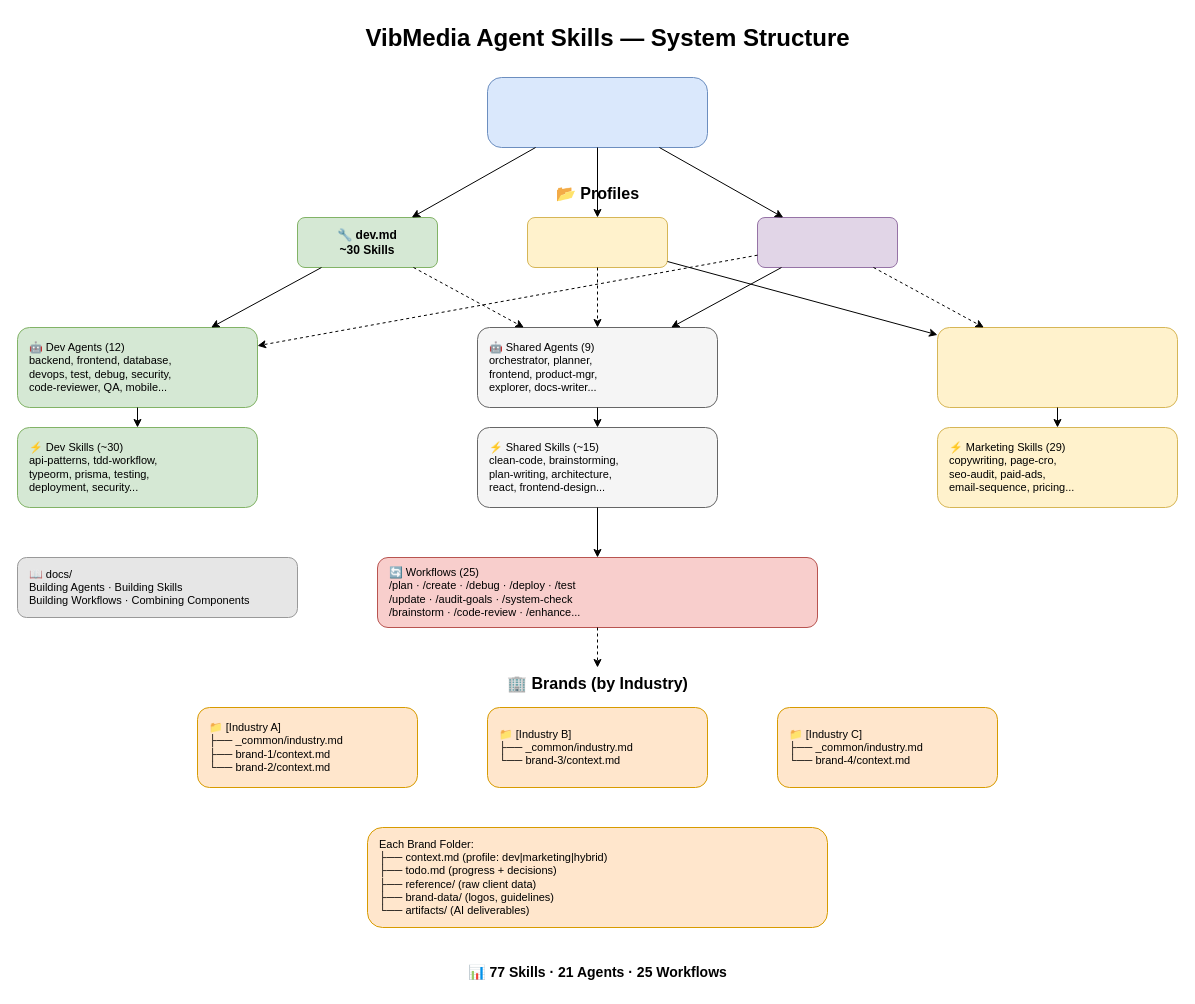
The diagram is 1195 pixels wide and 1004 high, and some of its shapes have lost their labels. Each missing label, with the box of its shape:
📈 marketing.md ~35 Skills: (526, 216, 668, 268)
📋 vib.md Company Identity (Loads First): (486, 76, 708, 148)
🔀 hybrid.md All Skills: (756, 216, 898, 268)
🤖 Marketing Agents (2) seo-specialist (+ shared agents): (936, 326, 1178, 408)
